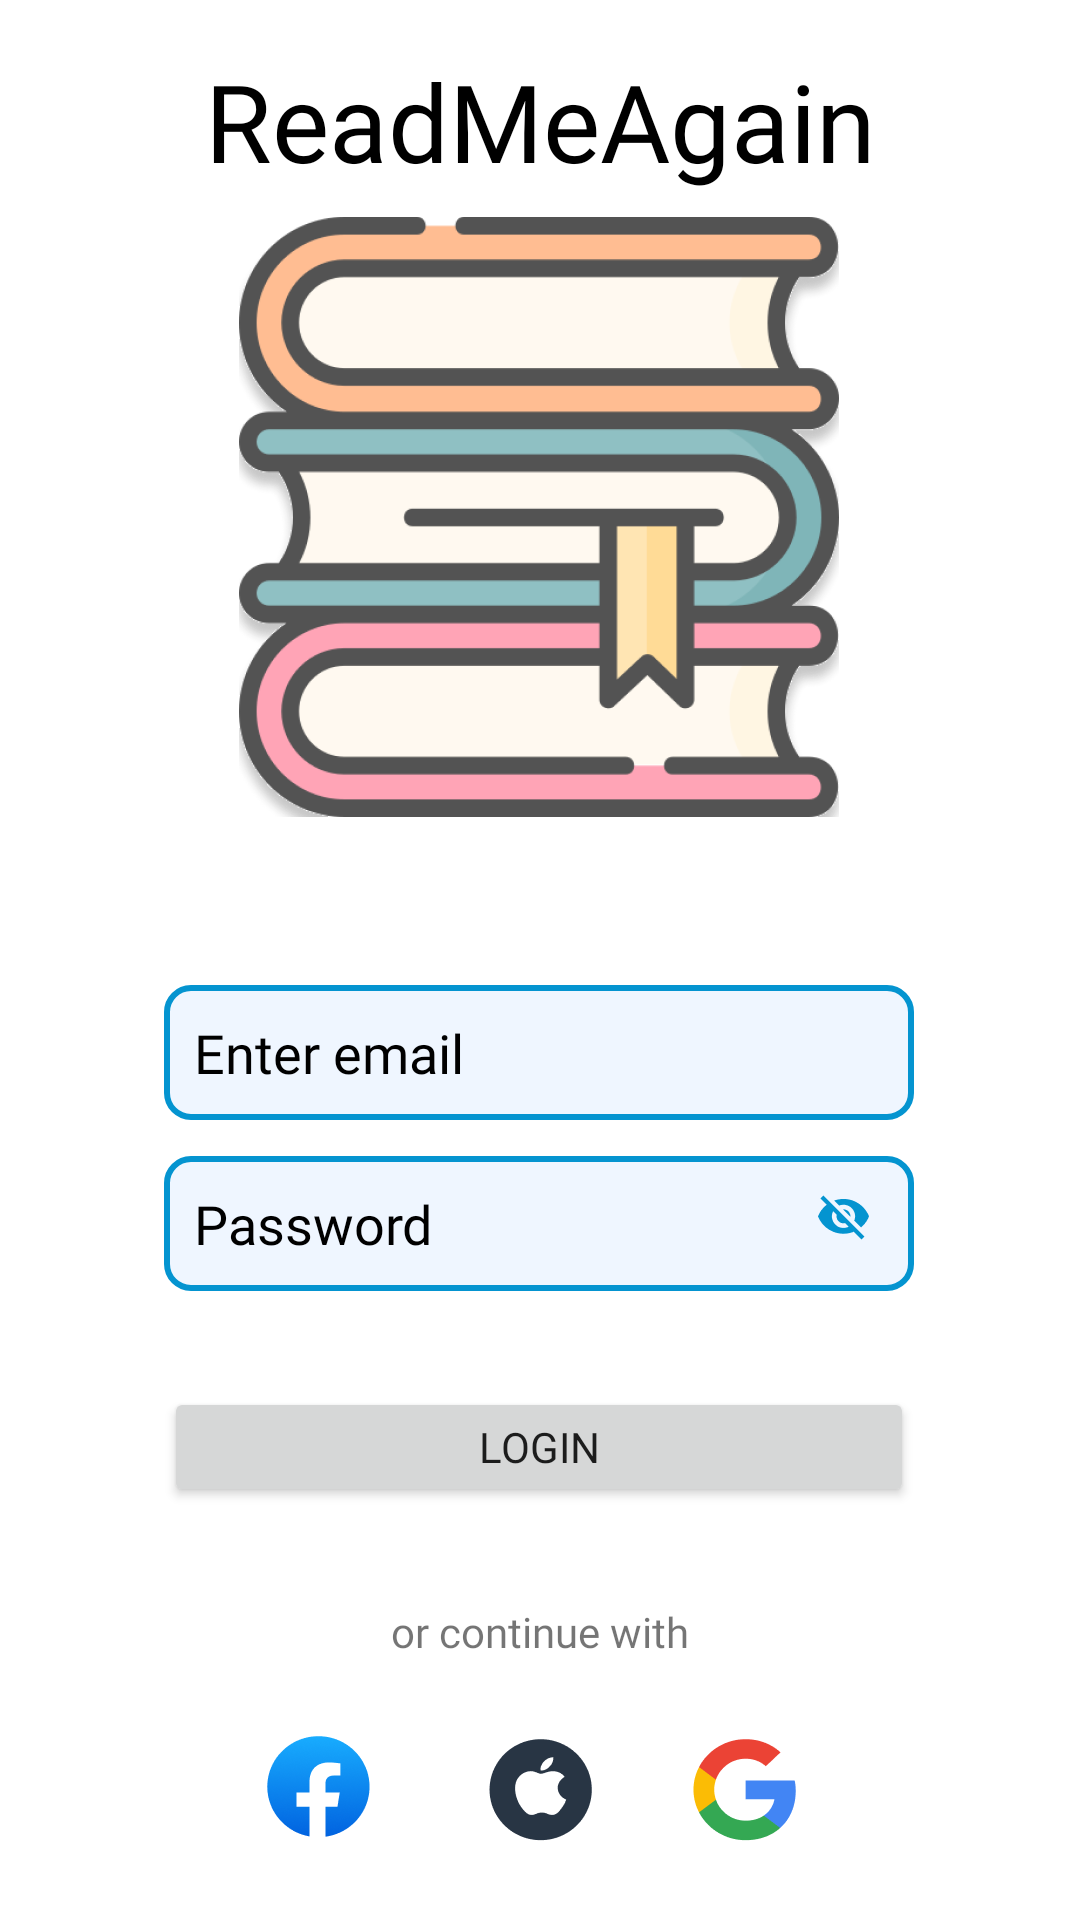

Icon bounding boxes for this 1080 × 1920 phone screenshot, format (x1, y1, x2, y2):
frag signin invisible: (818, 1195, 869, 1240)
